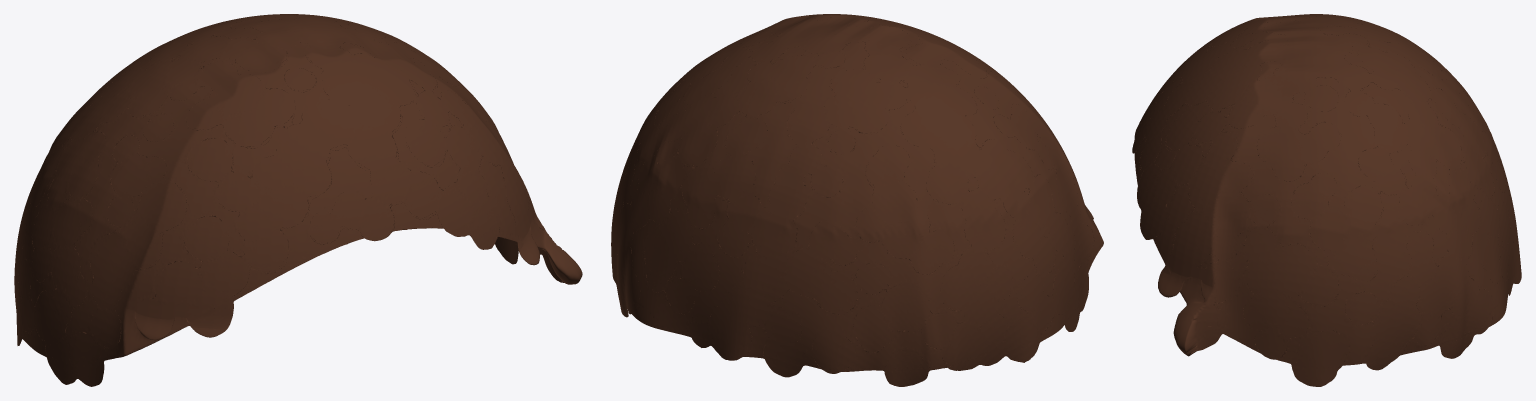
Rendered from Masculine-afro-covered248-hair.glb.
3 views of the same model, side by side, from view 1: azimuth 30°, elevation 25°; view 2: azimuth 150°, elevation 25°; view 3: azimuth 270°, elevation 25° (orthographic). The views are drawn at different scales.
Visible parts, largest first — view 1: 226 hair / Hair / dense coiled texture235; view 2: 226 hair / Hair / dense coiled texture235; view 3: 226 hair / Hair / dense coiled texture235.
Part boxes in pixels (bbox=[...]): 226 hair / Hair / dense coiled texture235: bbox=[14, 14, 582, 386]; 226 hair / Hair / dense coiled texture235: bbox=[611, 14, 1103, 386]; 226 hair / Hair / dense coiled texture235: bbox=[1132, 14, 1521, 386].
Bounding box in the file's own units: 0.9628 × 0.5608 × 0.7903.
